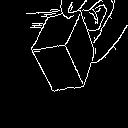cube: (26, 12, 104, 98)
